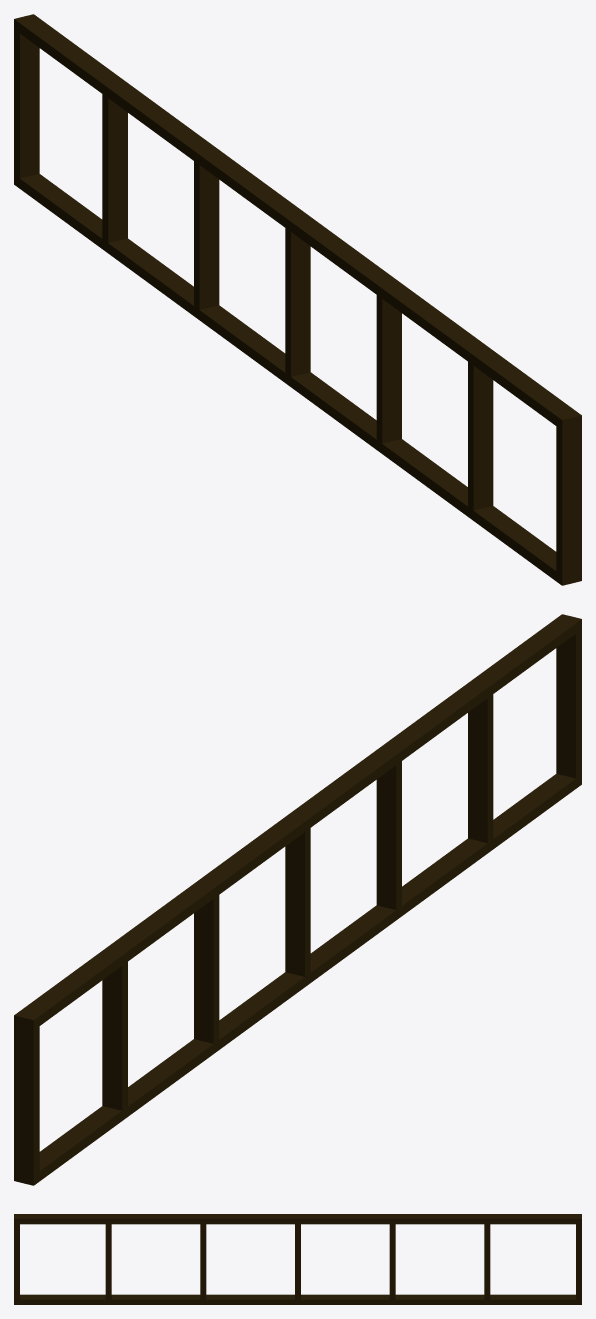
File: 6 SW Frame.fbx
3 renders of one model, top to bottom at view 1: azimuth 30°, elevation 25°; view 2: azimuth 150°, elevation 25°; view 3: azimuth 270°, elevation 25°, orthographic. The views are drawn at different scales.
Parts seen in each view (by area): view 1: 6SCC frame; view 2: 6SCC frame; view 3: 6SCC frame.
Part boxes in pixels (x1,y1,x2,y2): 6SCC frame: (14,14,581,585); 6SCC frame: (14,614,581,1185); 6SCC frame: (14,1214,581,1304).
Bounding box in the file's own units: 100 × 800 × 4800.
